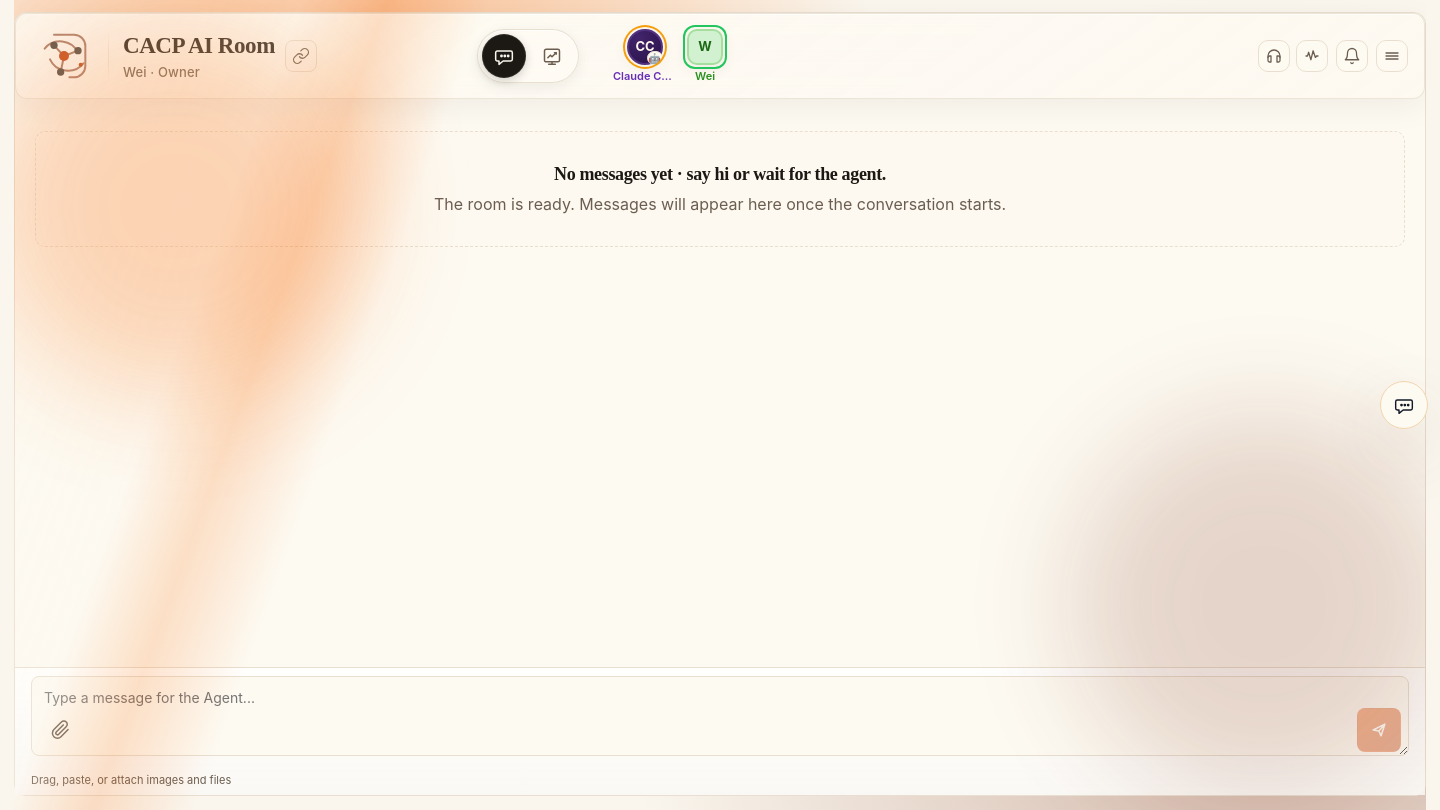
Workspace refactored shell › opens sound panel through MoreMenu
Click the button named "more options" at (1392,56), box [1376,40,1408,72]
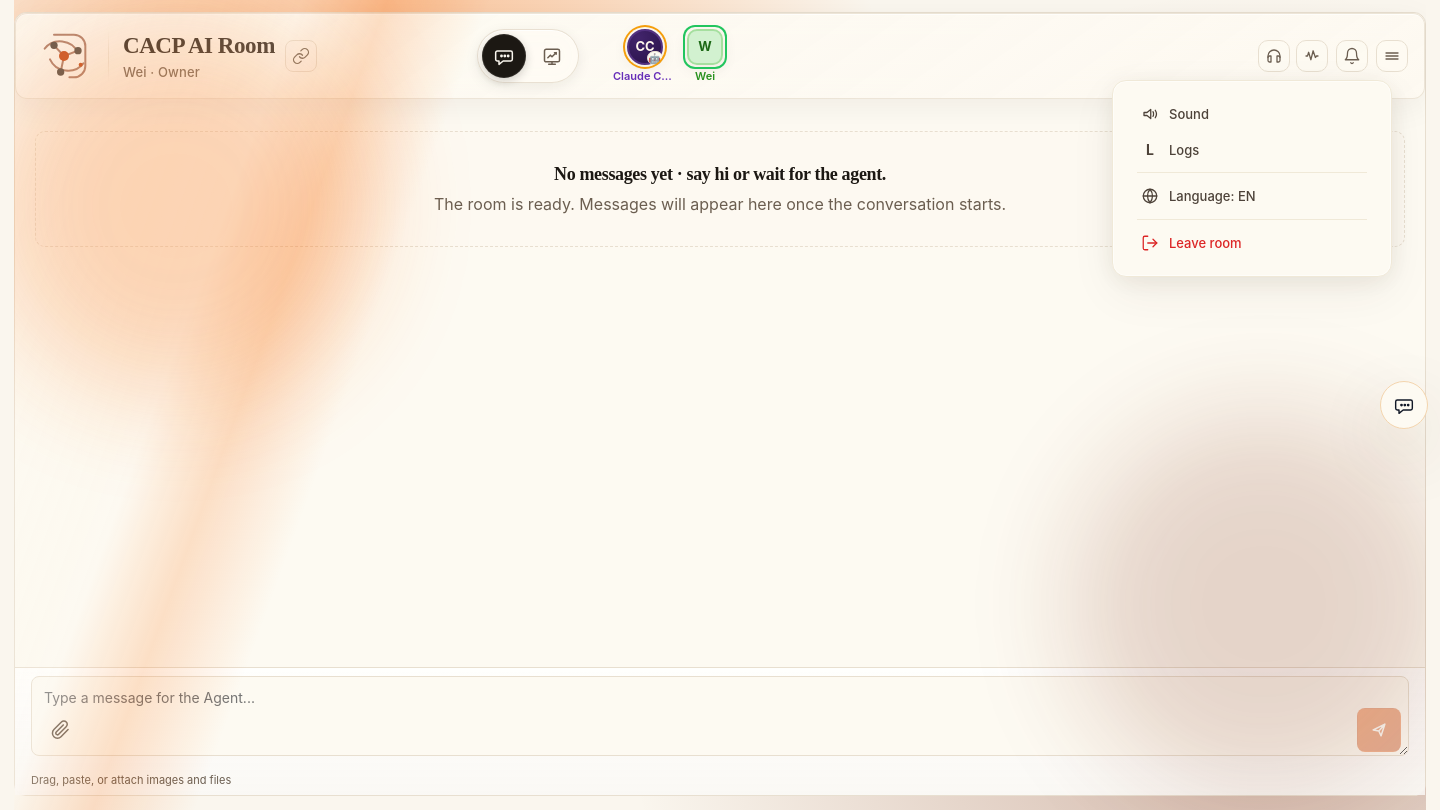
Click the button "Sound" at (1252,114), box [1129,97,1375,131]
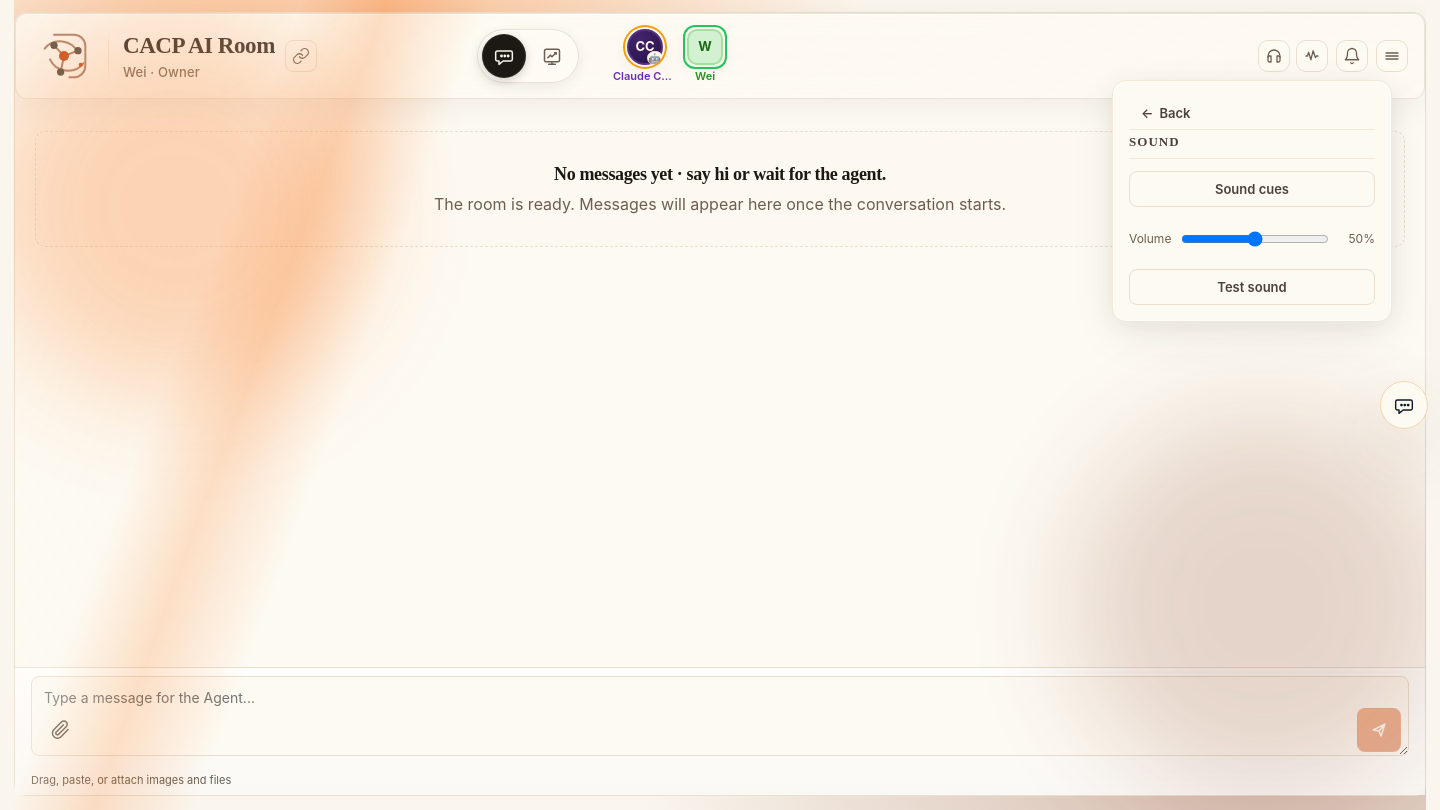
Result: the slider labelled "Volume" is shown at [1181,231,1329,247]
